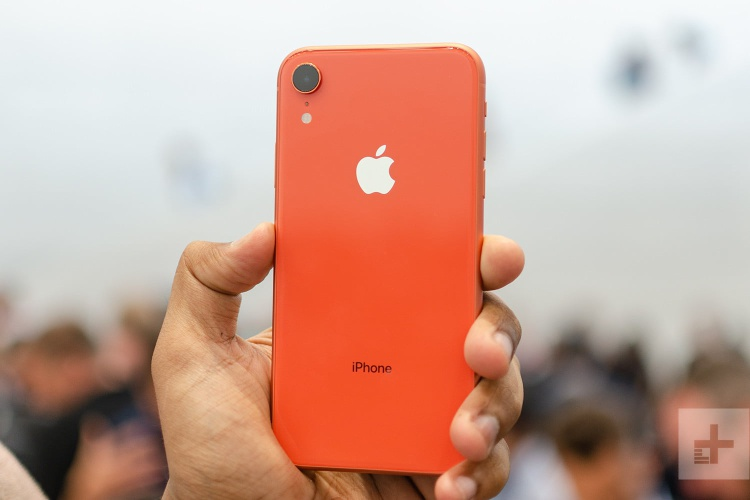apple: (343, 132, 419, 221)
